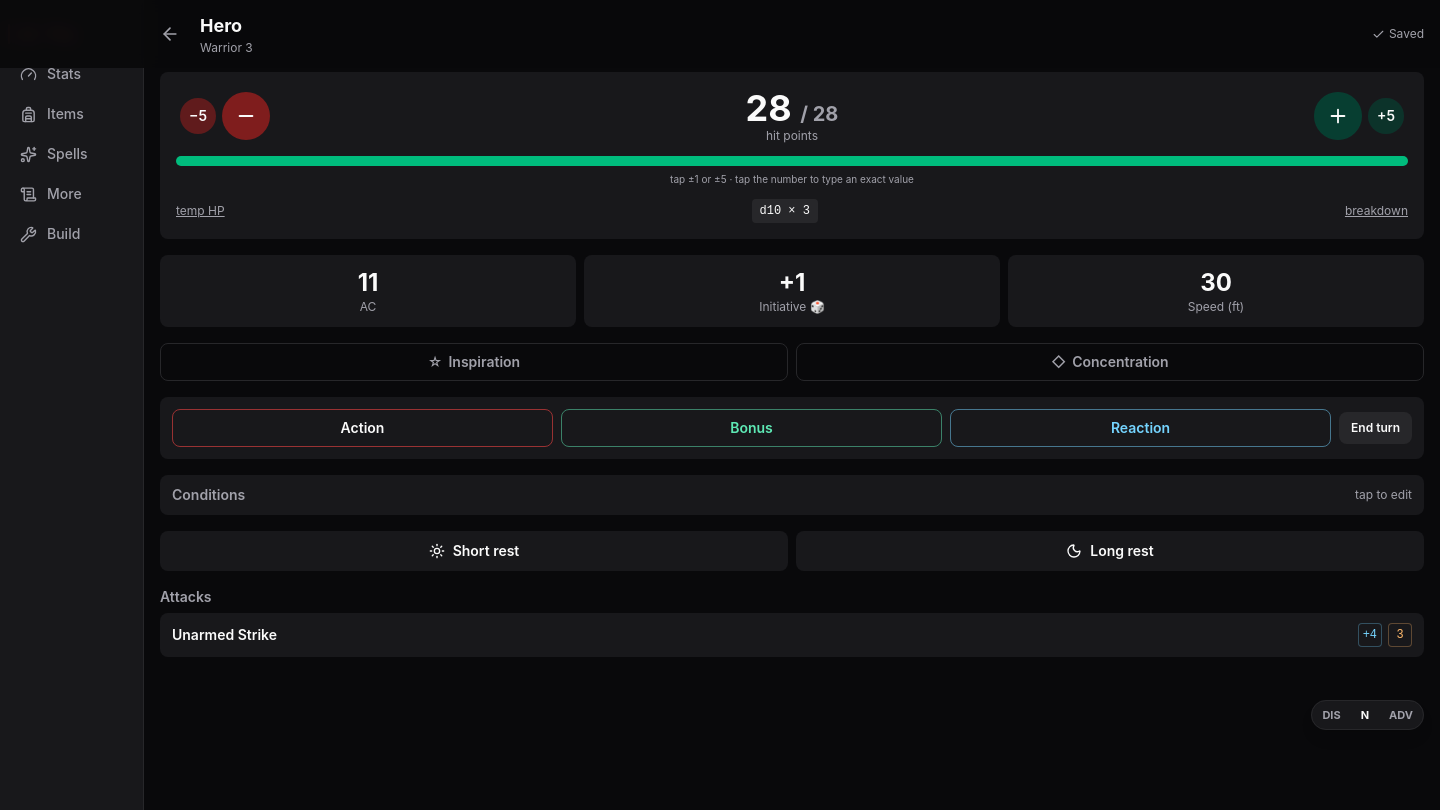
it: save announcements › says a refused retry as a conflict, never as saved, and its resolution once
This screenshot has width=1440, height=810.
Click the button named "Damage 1 hit point": [246, 116] box [222,92,270,140]
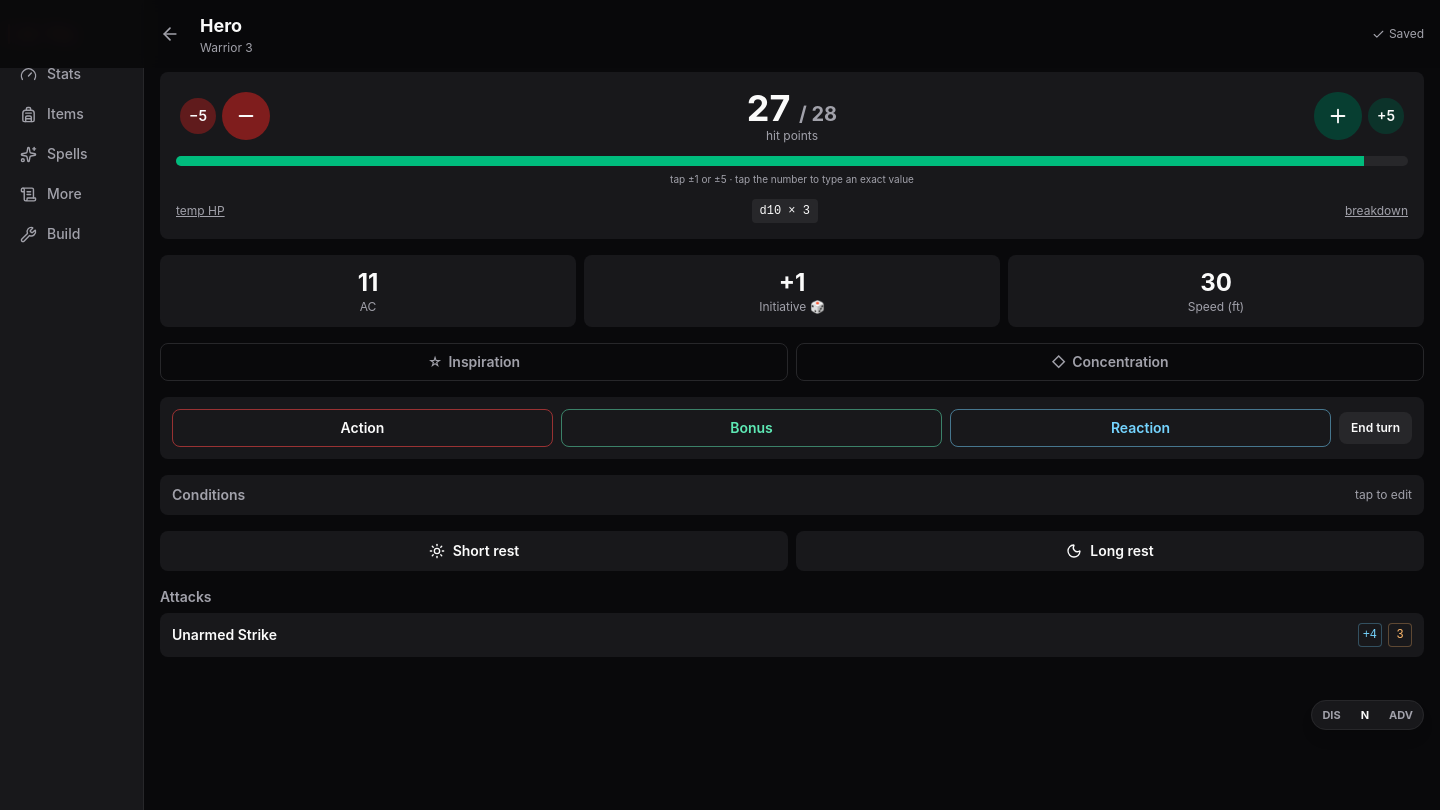
Click the button named "Damage 1 hit point": [246, 116] box [222,92,270,140]
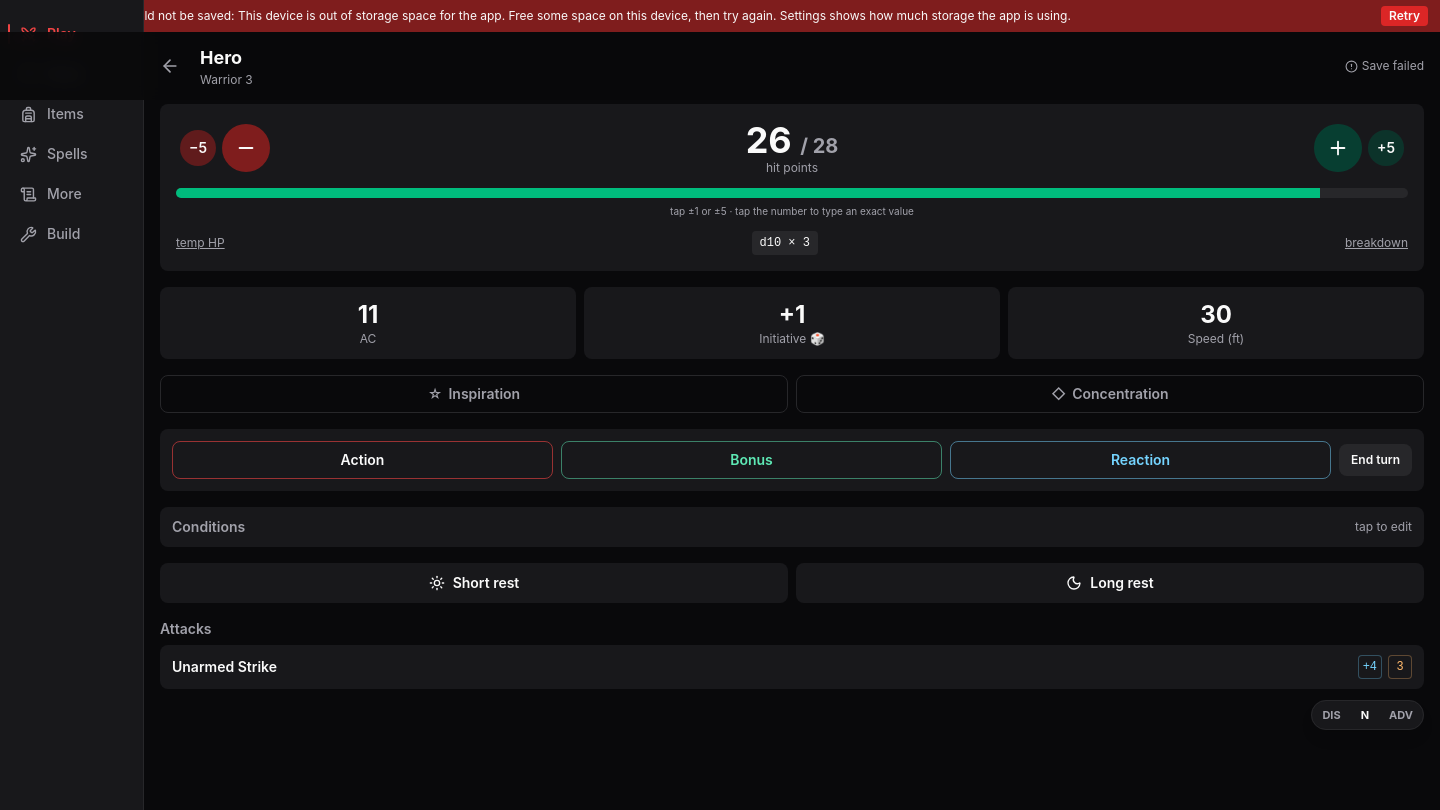
Click the button "Retry": [1404, 16] box [1381,6,1428,26]
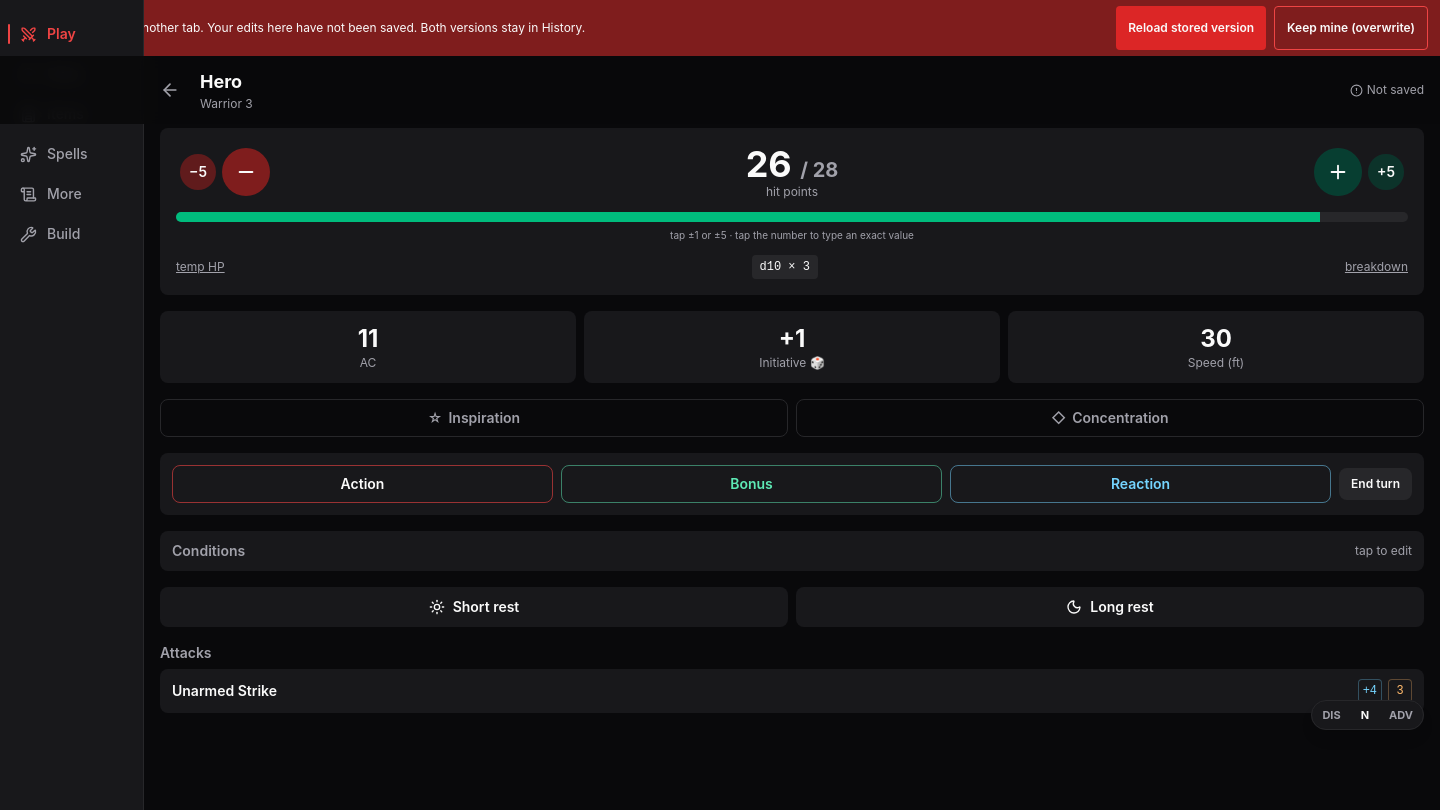
expect the text "changed in another tab" is shown: met, box [12,20,585,35]
Click the button "Reload stored version": [1191, 28] box [1116,6,1266,50]
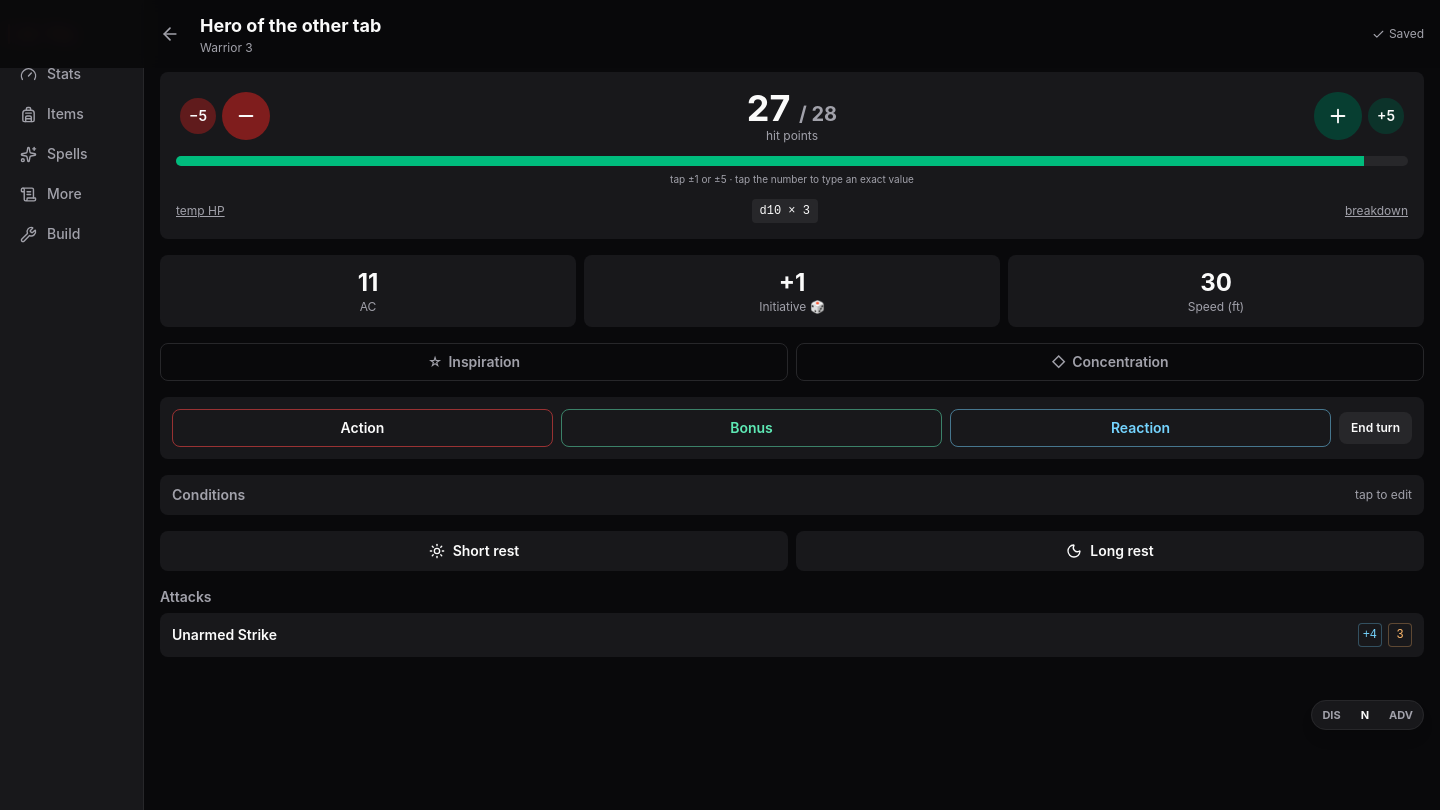
expect the message is gone: met
expect the heading "Hero of the other tab" is shown: met, box [200,15,381,36]
